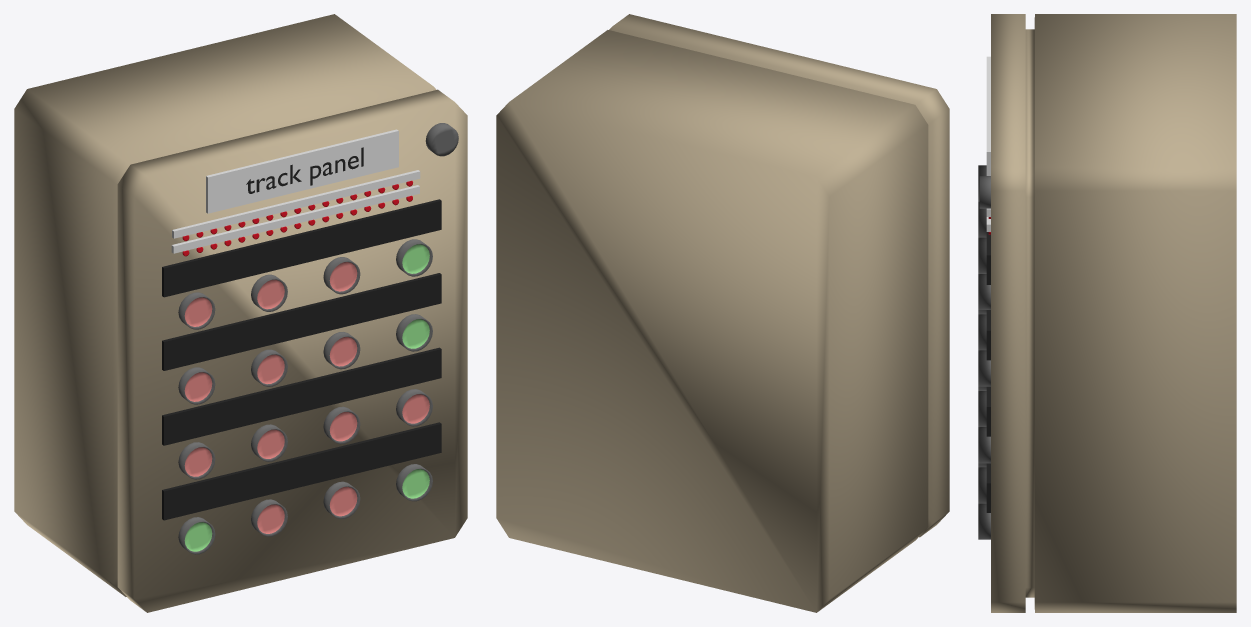
The model's file is trackpanel.fbx.
3 renders of one model, left to right at view 1: azimuth 30°, elevation 25°; view 2: azimuth 150°, elevation 25°; view 3: azimuth 270°, elevation 25°, orthographic. The views are drawn at different scales.
Parts seen in each view (by area): view 1: Cube.010, Cube.012, Cylinder.005, Cube.013, Cylinder.008, Cylinder.006, Text.001; view 2: Cube.010; view 3: Cube.010, Cylinder.005, Cube.012, Cube.013, Cylinder.006.
Part boxes in pixels (x1,y1,x2,y2): Cube.010: (14,14,467,612); Cube.012: (162,199,441,520); Cylinder.005: (178,239,432,554); Cube.013: (206,129,398,213); Cylinder.008: (171,170,420,256); Cylinder.006: (425,123,458,156); Text.001: (246,147,363,193); Cube.010: (496,14,949,612); Cube.010: (991,14,1236,612); Cylinder.005: (978,165,990,539); Cube.012: (986,232,990,512); Cube.013: (986,56,990,175); Cylinder.006: (979,176,990,208).
Bounding box in the file's own units: 54.04 × 67.55 × 35.5.
